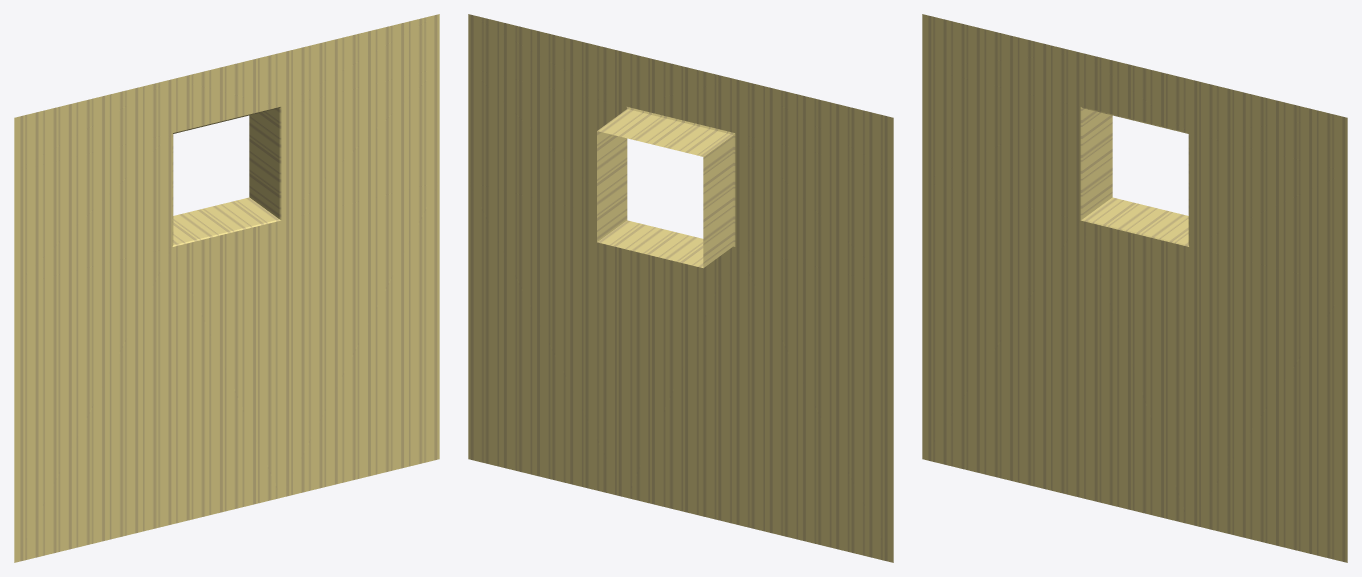
Rendered from Wall_crawlSpaceHole_large.fbx.
3 renders of one model, left to right at view 1: azimuth 30°, elevation 25°; view 2: azimuth 150°, elevation 25°; view 3: azimuth 330°, elevation 25°, orthographic.
Parts seen in each view (by area): view 1: Wall_crawlSpaceHole_large; view 2: Wall_crawlSpaceHole_large; view 3: Wall_crawlSpaceHole_large.
Boxes of the visible parts, x1,y1,x2,y2 form: Wall_crawlSpaceHole_large: [14, 14, 439, 562]; Wall_crawlSpaceHole_large: [468, 14, 893, 562]; Wall_crawlSpaceHole_large: [922, 14, 1347, 562].
Bounding box in the file's own units: 400 × 400 × 50.
